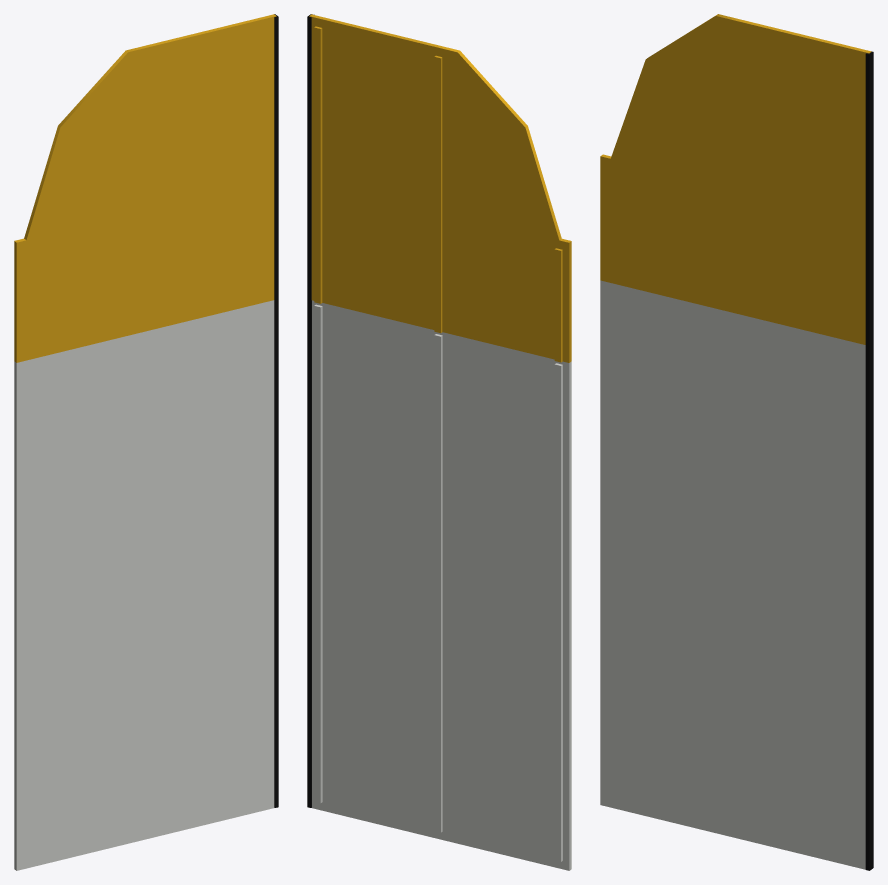
Rendered from door_l_rwkz.glb.
3 views of the same model, side by side, from view 1: azimuth 30°, elevation 25°; view 2: azimuth 150°, elevation 25°; view 3: azimuth 330°, elevation 25° (orthographic). The views are drawn at different scales.
Visible parts, largest first — view 1: Door, DoorTop, Rubber; view 2: Door, DoorTop, Rubber; view 3: Door, DoorTop, Rubber.
Part boxes in pixels (box(x1,y1,x2,y2)): Door: box(14, 300, 274, 870); DoorTop: box(14, 14, 276, 362); Rubber: box(274, 14, 278, 807); Door: box(312, 300, 571, 870); DoorTop: box(309, 14, 571, 362); Rubber: box(307, 14, 314, 807); Door: box(600, 280, 865, 869); DoorTop: box(600, 14, 871, 344); Rubber: box(865, 51, 873, 870).
Size of the model in its own units: 1.59 by 4.61 by 0.05.
